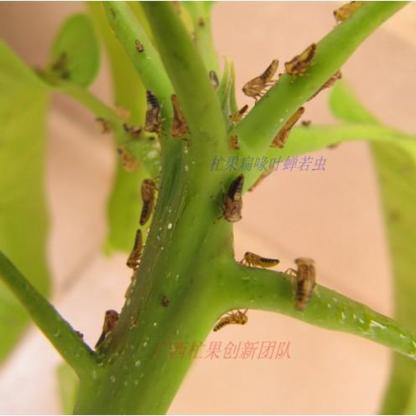grasshopper: (269, 103, 308, 153), (213, 172, 246, 224), (289, 254, 319, 308), (136, 174, 164, 229), (305, 66, 345, 104), (243, 58, 279, 100), (165, 92, 192, 144), (285, 42, 320, 76), (142, 91, 166, 136), (93, 308, 118, 350), (213, 306, 250, 334), (125, 228, 146, 275), (240, 249, 282, 269), (228, 104, 252, 123), (134, 38, 144, 54)
